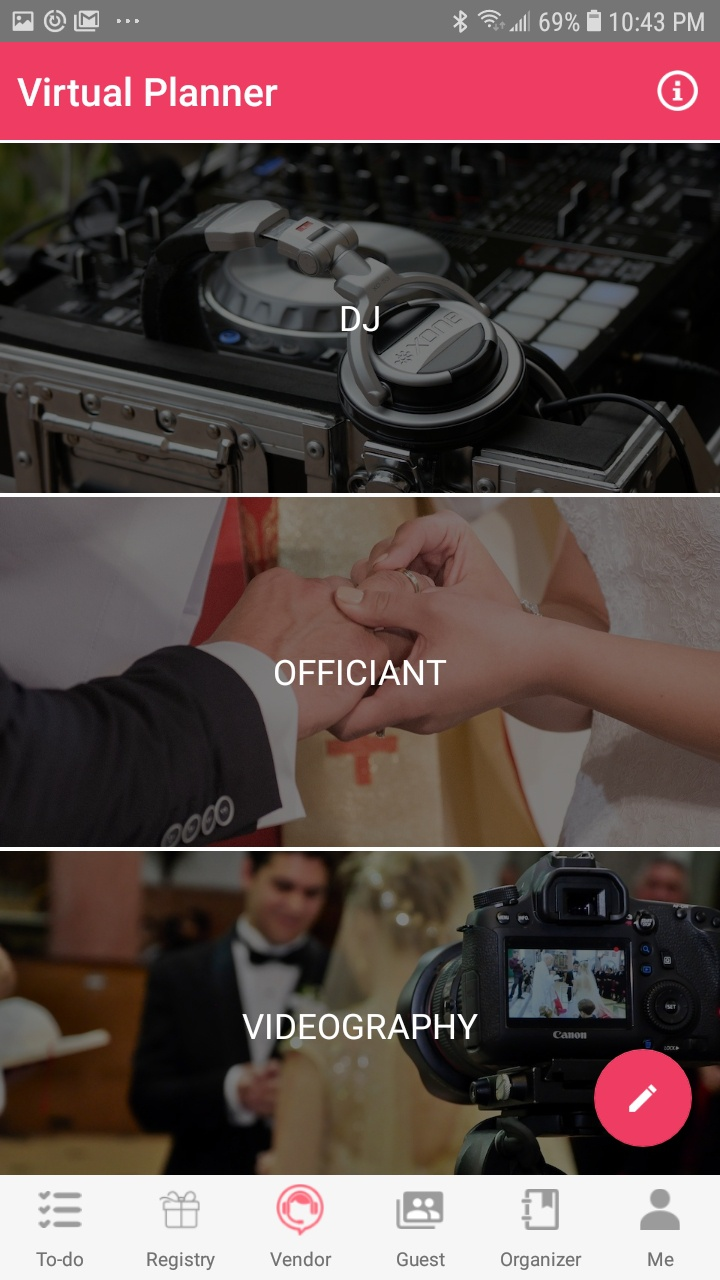Icon: (593, 1049, 693, 1148), (395, 1190, 445, 1230), (656, 70, 699, 113), (640, 1188, 681, 1231), (39, 1190, 84, 1229), (521, 1188, 560, 1231), (159, 1190, 201, 1229)
Image: (1, 144, 720, 494), (1, 497, 720, 847), (1, 851, 720, 1175), (276, 1183, 325, 1237)
Text: (17, 76, 279, 109), (242, 1013, 479, 1040), (274, 659, 447, 687), (500, 1251, 582, 1271), (147, 1251, 216, 1271), (270, 1250, 333, 1267), (341, 306, 380, 333), (36, 1250, 85, 1267), (397, 1251, 447, 1267), (647, 1251, 674, 1267)
UpperTaskBar: (1, 1, 720, 43)
